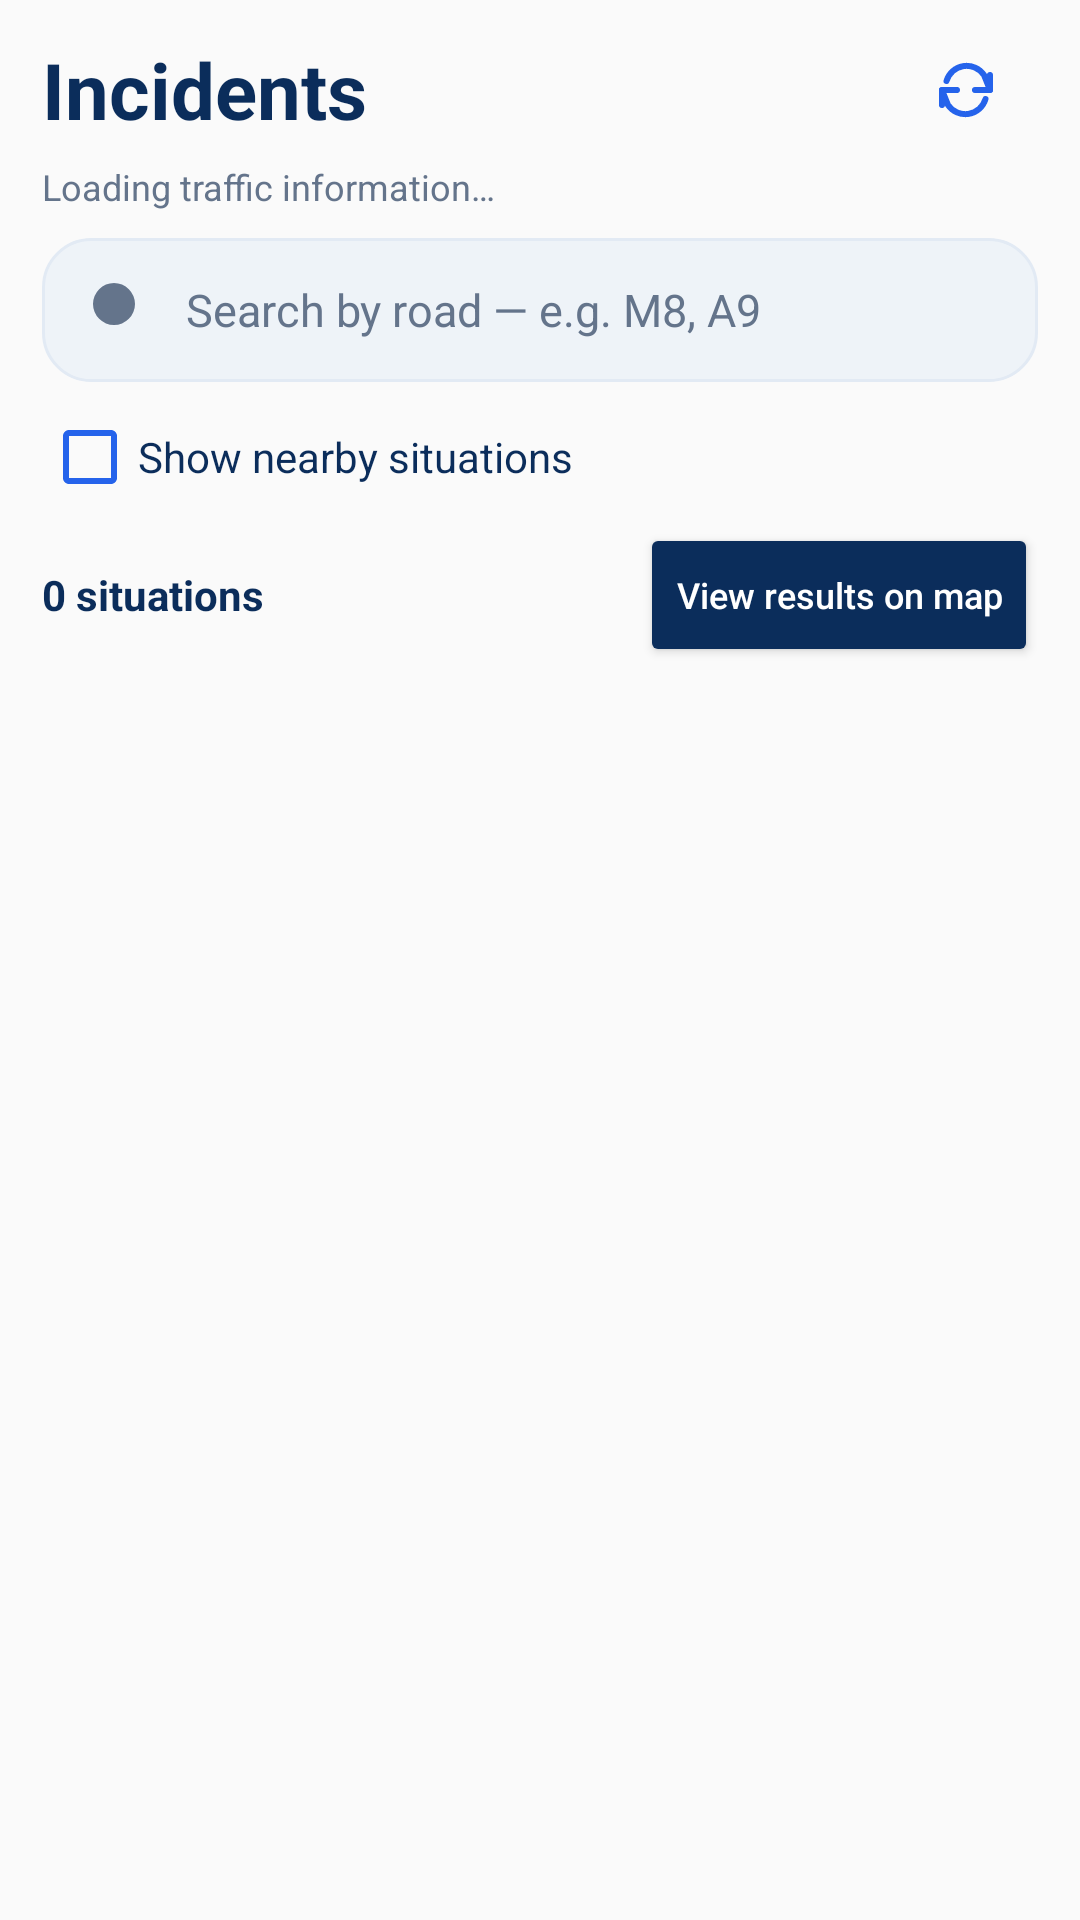

Where to tap for icons on this 1080×1920 app screen, as (x,y):
Refresh traffic information: (966,90)
